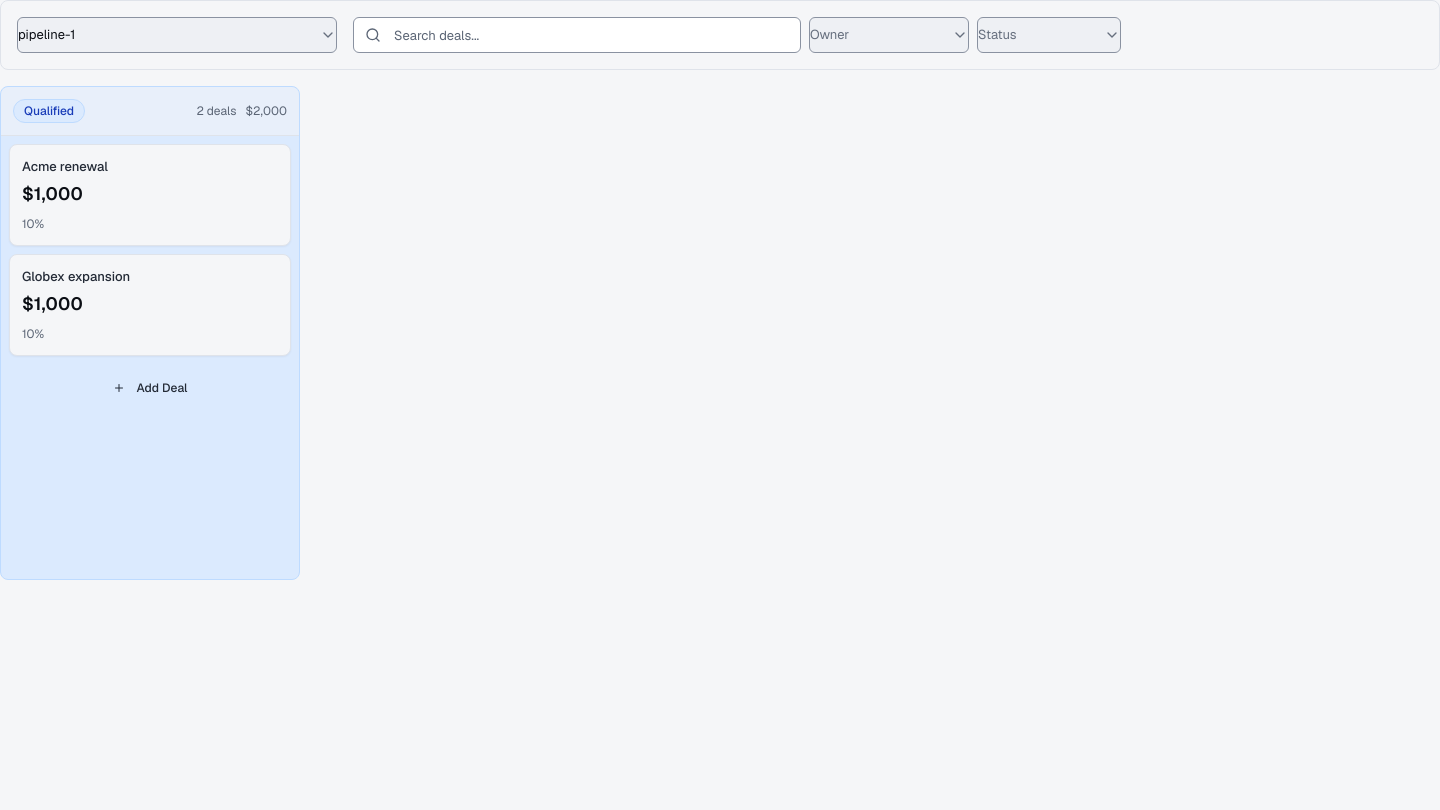
Test: filtering › matches a substring, not a prefix
Step 1. Type "renew" into the field with placeholder "Search deals..." → (577, 35), box [353,17,801,53]
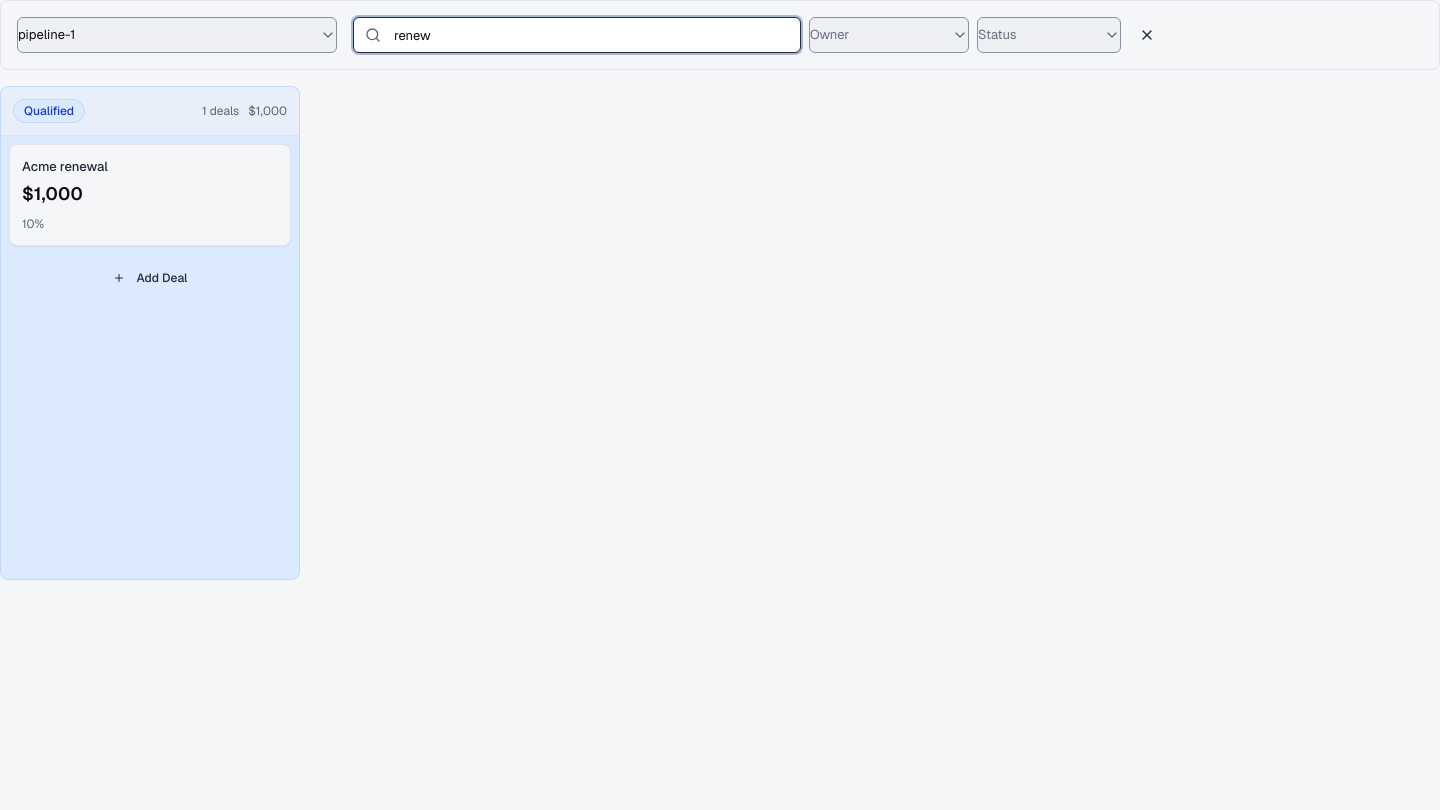
Expected: the text "Acme renewal" is shown, [22,158,108,175]
Result: the text "Globex expansion" is gone
